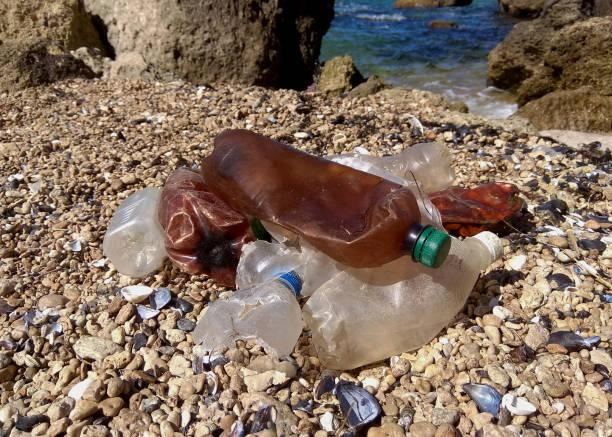Plastic: (199, 123, 450, 266), (311, 230, 501, 360), (198, 268, 309, 365), (99, 174, 166, 279), (348, 144, 456, 195)
